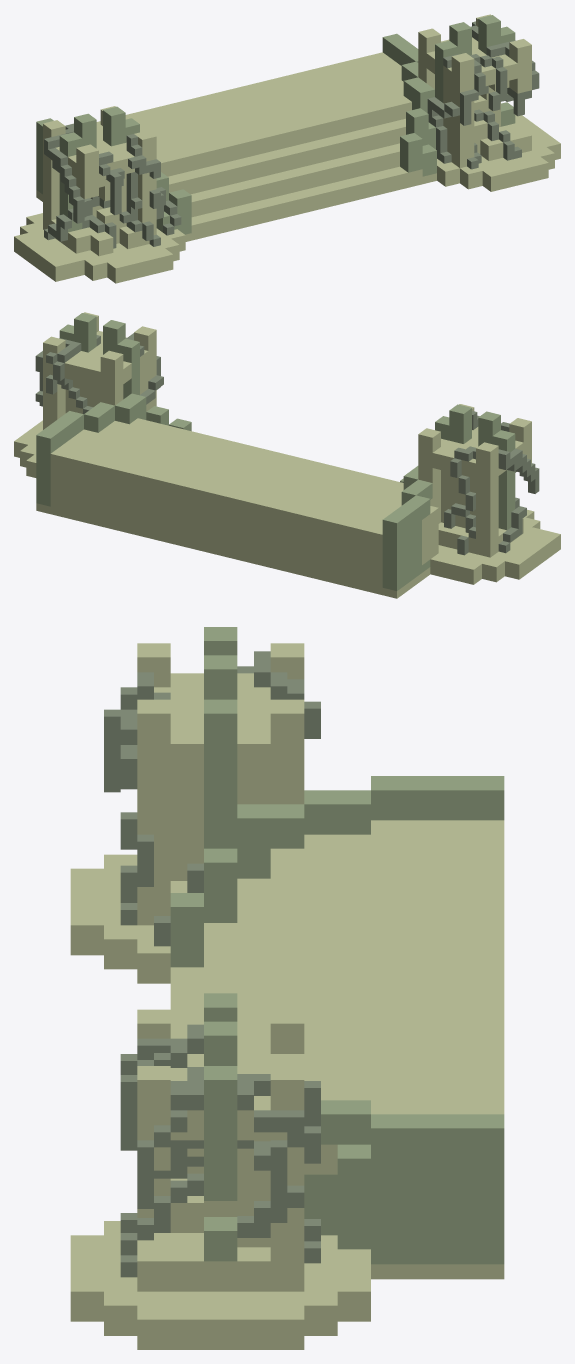
Rendered from entrance.fbx.
The picture shows the model from 3 angles, top to bottom: view 1: azimuth 30°, elevation 25°; view 2: azimuth 150°, elevation 25°; view 3: azimuth 270°, elevation 25°; orthographic projection. The views are drawn at different scales.
Visible parts, largest first — view 1: ObjObject.003; view 2: ObjObject.003; view 3: ObjObject.003.
Boxes of the visible parts, x1,y1,x2,y2 form: ObjObject.003: [14, 14, 560, 283]; ObjObject.003: [14, 312, 560, 598]; ObjObject.003: [70, 627, 504, 1349].
Bounding box in the file's own units: 700 × 180 × 260.
